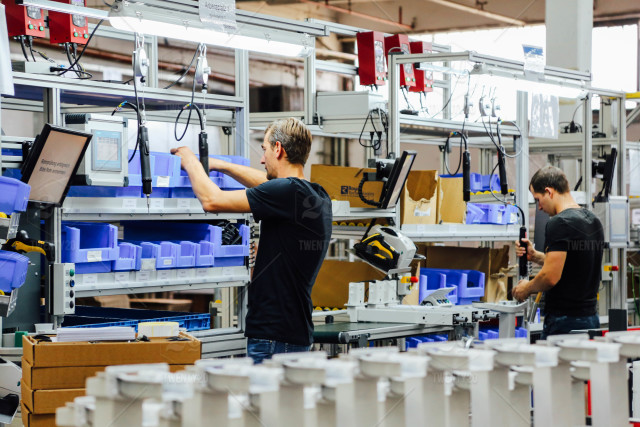person: (168, 117, 333, 366), (511, 165, 603, 336)
